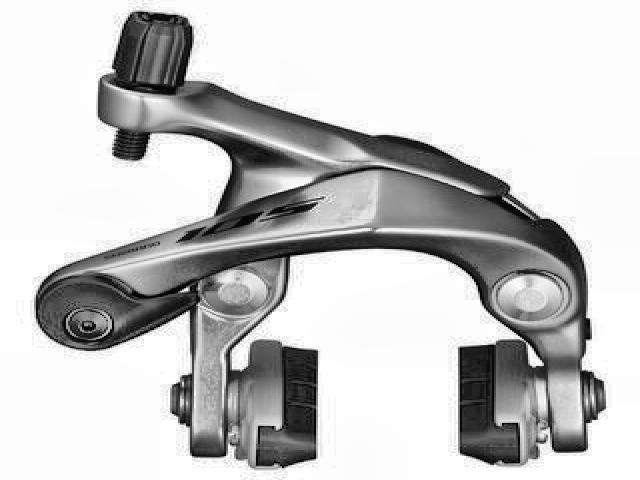rim_brake: (31, 8, 607, 470)
